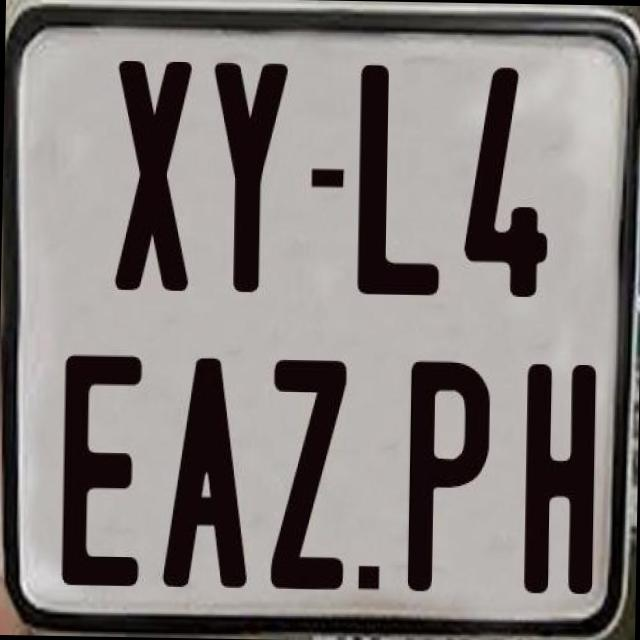4: (461, 66, 552, 304)
A: (161, 354, 251, 594)
E: (58, 351, 142, 590)
H: (520, 359, 600, 598)
L: (352, 64, 443, 302)
P: (408, 356, 490, 592)
X: (114, 57, 195, 295)
Y: (208, 59, 292, 297)
Z: (268, 354, 344, 584)
